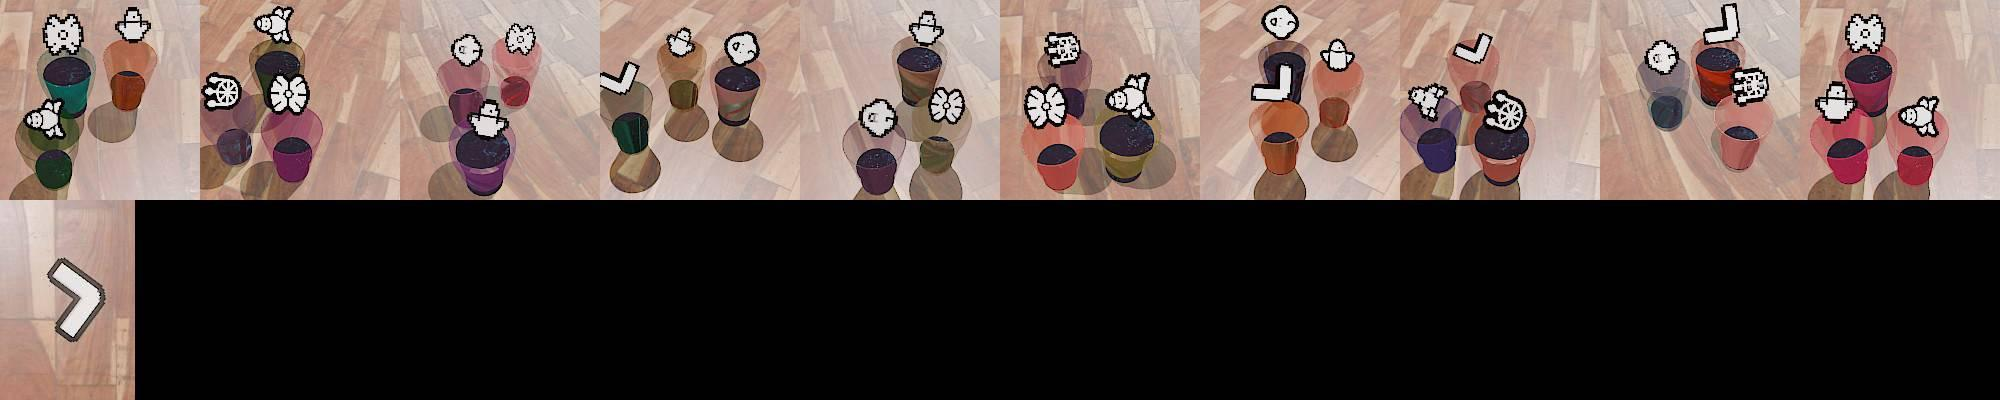icon: (42, 256, 107, 345), (1103, 71, 1154, 120), (1480, 88, 1528, 134), (1023, 82, 1069, 129), (1250, 60, 1300, 102), (466, 96, 510, 139), (267, 71, 310, 116), (43, 11, 85, 57), (24, 97, 69, 139), (1898, 96, 1940, 139), (1815, 79, 1857, 122), (1699, 1, 1740, 46), (856, 97, 898, 139), (1846, 13, 1885, 56), (1407, 82, 1450, 121), (202, 70, 242, 111), (1731, 66, 1770, 107), (254, 4, 295, 42), (929, 85, 966, 125), (599, 60, 640, 96), (1043, 31, 1082, 68), (1454, 29, 1494, 65), (1644, 38, 1680, 76), (907, 10, 945, 46), (723, 29, 759, 66), (1263, 5, 1300, 41), (115, 6, 151, 43), (1318, 37, 1356, 71), (504, 22, 537, 56), (449, 33, 482, 68), (666, 27, 695, 57)
